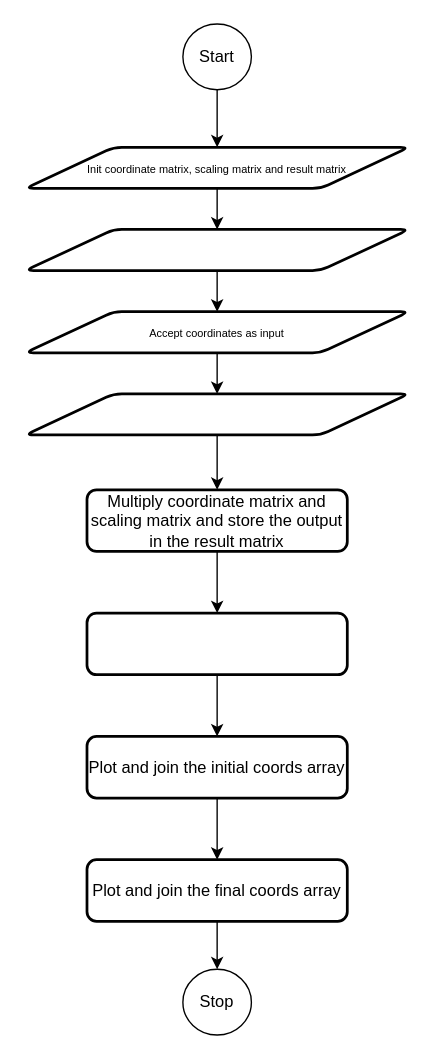
Image size: 433x1059. Some labels were removed from this diagram. Each missing label, with the centre of its shape:
"Accept scaling factors sx and sy" goes at (216,414).
"Init x[], y[], initial coords, fnal coords and scaling factors" goes at (216,249).
"Store the coordinate from the result matrix in the final coords array" goes at (216,643).
